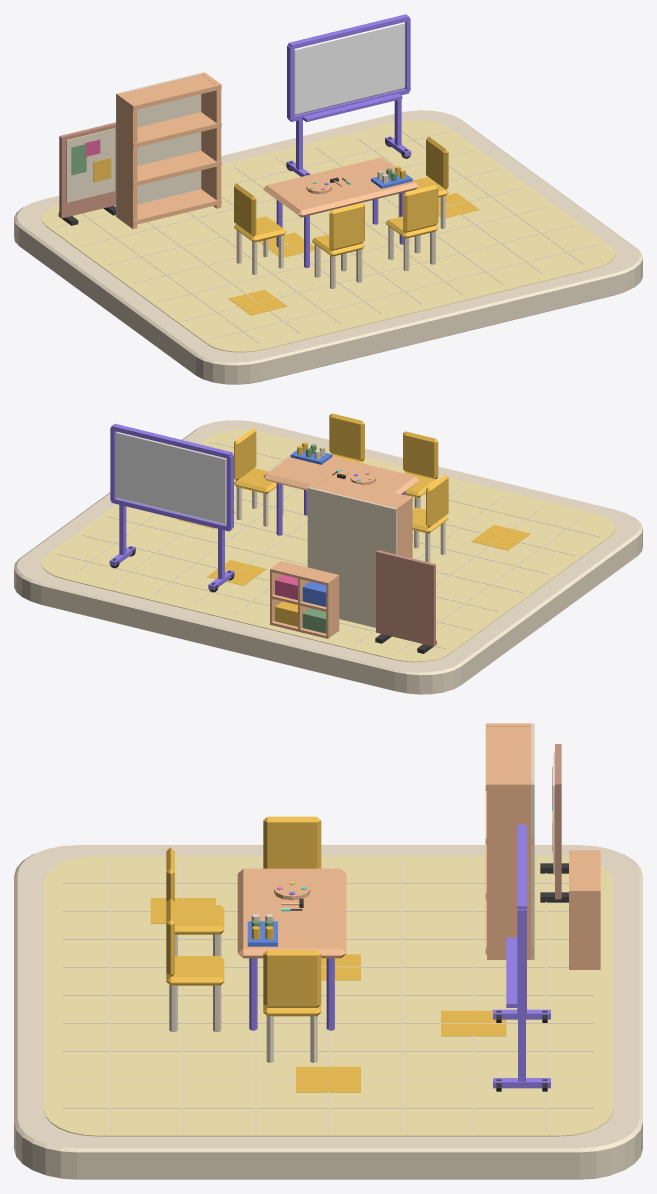
Rendered from room.fbx.
3 views of the same model, one above another, from view 1: azimuth 30°, elevation 25°; view 2: azimuth 150°, elevation 25°; view 3: azimuth 270°, elevation 25° (orthographic). The views are drawn at different scales.
Parts seen in each view (by area): view 1: COM-02 Floor Surface, COM-01 Rounded Base Direct, Writing surface, Rounded table top, Back, Side, Canvas, Side.001, Panel, Shelf.003, Shelf, Shelf.001 (+13 smaller); view 2: COM-02 Floor Surface, COM-01 Rounded Base Direct, Back, Writing surface, Panel, Rounded table top, Backrest.002, Backrest.003, Shelf.003, Frame rail.001, Backrest, Backrest.001 (+15 smaller); view 3: COM-02 Floor Surface, COM-01 Rounded Base Direct, Rounded table top, Side.001, Backrest.001, Backrest, Shelf.003, Cubbies divider.002, Geometric color tile.003, Geometric color tile.002, Seat.003, Seat.002 (+15 smaller).
Part boxes in pixels (left/top/right/bottom): COM-02 Floor Surface: left=41, top=120, right=615, bottom=352; COM-01 Rounded Base Direct: left=14, top=110, right=642, bottom=384; Writing surface: left=294, top=22, right=405, bottom=115; Rounded table top: left=263, top=157, right=418, bottom=217; Back: left=116, top=72, right=204, bottom=217; Side: left=117, top=93, right=137, bottom=228; Canvas: left=66, top=128, right=115, bottom=202; Side.001: left=201, top=72, right=221, bottom=208; Panel: left=59, top=122, right=115, bottom=218; Shelf.003: left=117, top=74, right=221, bottom=110; Shelf: left=116, top=189, right=221, bottom=225; Shelf.001: left=117, top=150, right=221, bottom=186; COM-02 Floor Surface: left=41, top=429, right=615, bottom=662; COM-01 Rounded Base Direct: left=14, top=420, right=642, bottom=694; Back: left=307, top=487, right=397, bottom=627; Writing surface: left=115, top=431, right=226, bottom=524; Panel: left=376, top=550, right=435, bottom=646; Rounded table top: left=263, top=456, right=418, bottom=493; Backrest.002: left=403, top=431, right=438, bottom=479; Backrest.003: left=329, top=413, right=364, bottom=461; Shelf.003: left=314, top=475, right=412, bottom=512; Frame rail.001: left=111, top=423, right=232, bottom=458; Backrest: left=426, top=475, right=448, bottom=527; Backrest.001: left=234, top=427, right=256, bottom=480; COM-02 Floor Surface: left=44, top=856, right=612, bottom=1136; COM-01 Rounded Base Direct: left=14, top=845, right=642, bottom=1179; Rounded table top: left=237, top=868, right=346, bottom=958; Side.001: left=487, top=781, right=532, bottom=959; Backrest.001: left=263, top=950, right=321, bottom=1007; Backrest: left=263, top=816, right=321, bottom=868; Shelf.003: left=485, top=723, right=533, bottom=790; Cubbies divider.002: left=569, top=890, right=600, bottom=969; Geometric color tile.003: left=296, top=1066, right=360, bottom=1092; Geometric color tile.002: left=441, top=1010, right=506, bottom=1036; Seat.003: left=166, top=956, right=224, bottom=985; Seat.002: left=175, top=905, right=224, bottom=934.
Size of the model in its own units: 600 by 204 by 520.
